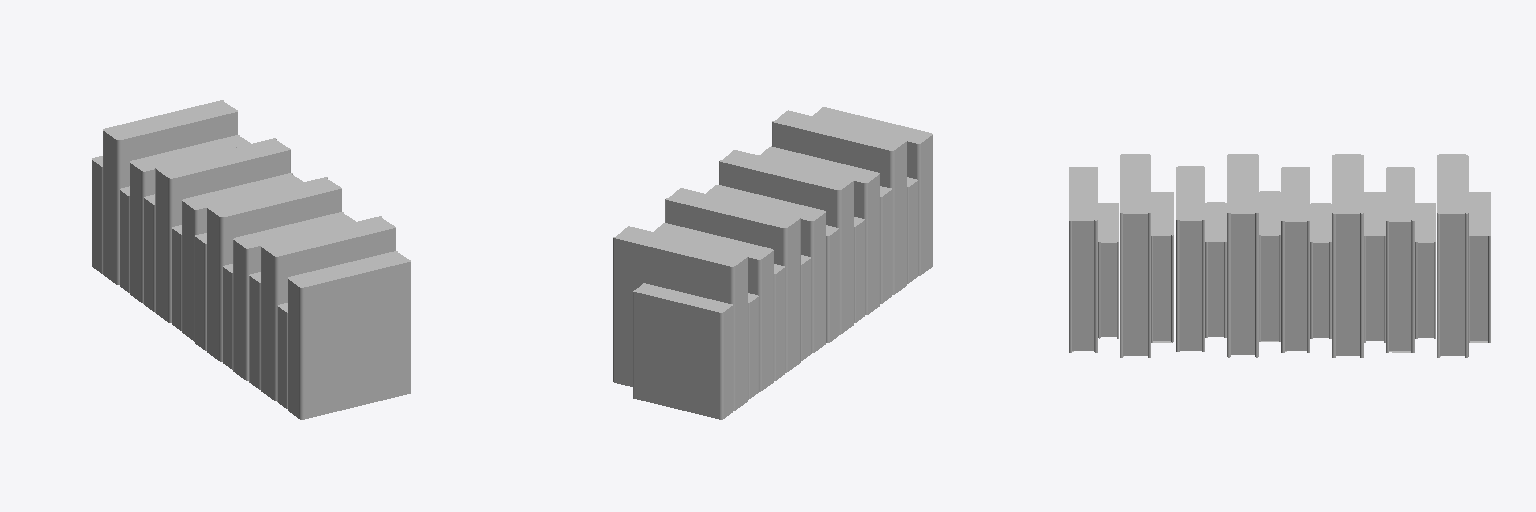
Rendered from books.obj.
3 renders of one model, left to right at view 1: azimuth 30°, elevation 25°; view 2: azimuth 150°, elevation 25°; view 3: azimuth 270°, elevation 25°, orthographic.
Visible parts, largest first — view 1: grp1, grp16, grp25, grp31, grp8, grp11, grp27, grp19, grp17, grp9, grp32, grp26 (+3 smaller); view 2: grp32, grp31, grp16, grp8, grp25, grp1, grp11, grp27, grp19, grp17, grp9, grp26 (+3 smaller); view 3: grp23, grp6, grp29, grp14, grp13, grp21, grp4, grp16, grp25, grp31, grp8, grp27 (+11 smaller).
Boxes of the visible parts, x1,y1,x2,y2 form: grp1: [288, 251, 410, 419]; grp16: [172, 177, 341, 361]; grp25: [155, 138, 290, 322]; grp31: [103, 100, 237, 284]; grp8: [261, 216, 395, 400]; grp11: [233, 212, 355, 380]; grp27: [130, 135, 250, 303]; grp19: [182, 173, 302, 341]; grp17: [195, 233, 206, 350]; grp9: [249, 272, 260, 389]; grp32: [92, 156, 102, 273]; grp26: [144, 194, 154, 311]; grp32: [633, 283, 732, 419]; grp31: [613, 226, 747, 410]; grp16: [719, 150, 853, 360]; grp8: [772, 110, 906, 294]; grp25: [665, 188, 800, 372]; grp1: [813, 107, 932, 275]; grp11: [759, 146, 879, 314]; grp27: [654, 223, 773, 391]; grp19: [706, 185, 825, 353]; grp17: [826, 225, 838, 342]; grp9: [880, 186, 891, 303]; grp26: [774, 264, 784, 380]; grp23: [1336, 213, 1433, 355]; grp6: [1123, 213, 1170, 355]; grp29: [1440, 213, 1487, 355]; grp14: [1231, 212, 1278, 354]; grp13: [1180, 220, 1223, 350]; grp21: [1285, 220, 1328, 350]; grp4: [1072, 220, 1116, 350]; grp16: [1227, 154, 1331, 357]; grp25: [1332, 154, 1363, 357]; grp31: [1437, 154, 1468, 357]; grp8: [1120, 154, 1150, 357]; grp27: [1386, 167, 1414, 352].
Bounding box in the file's own units: 178 × 201 × 532.